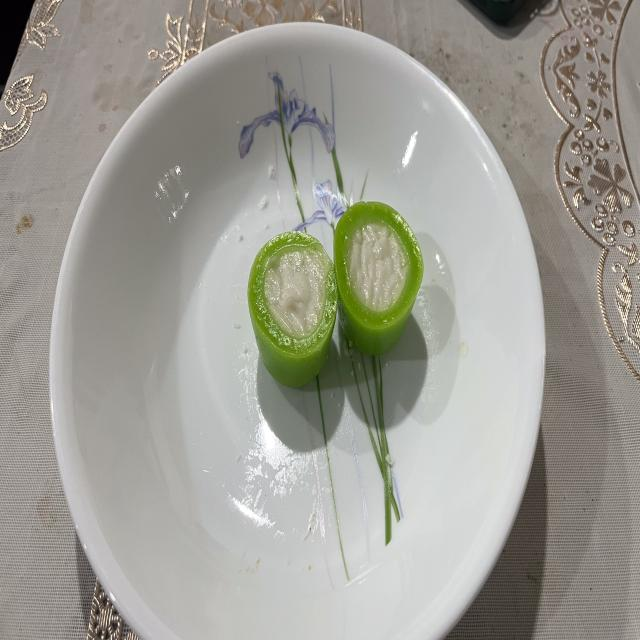nona-manis: (248, 231, 338, 387), (334, 202, 424, 356)
